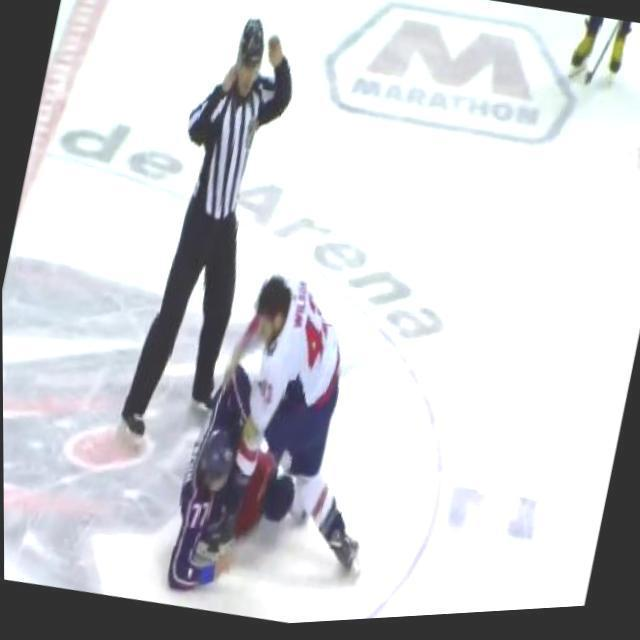fight: (166, 262, 419, 623)
